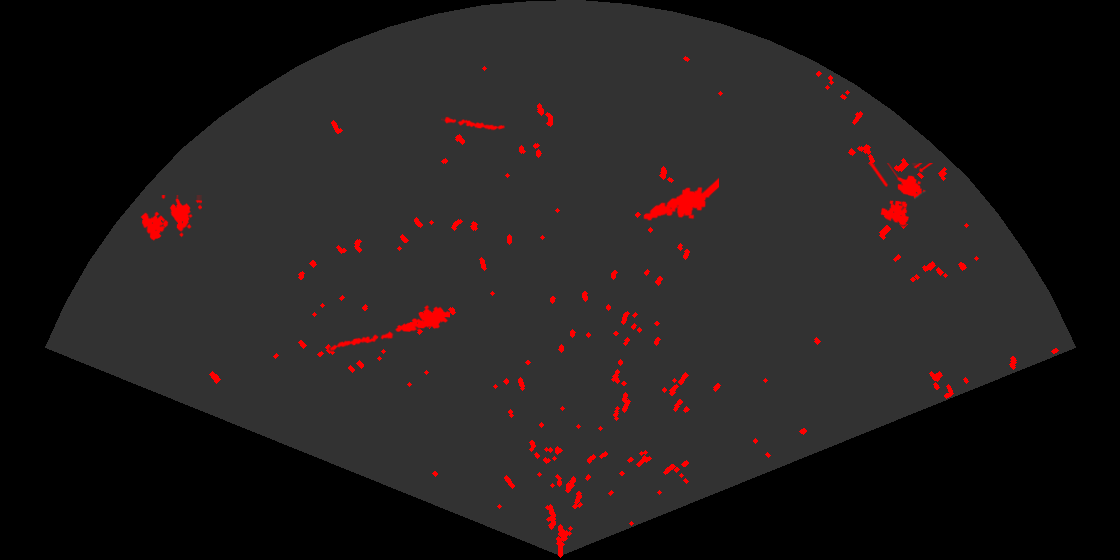cage: (867, 163, 935, 227), (139, 195, 202, 242)
chain: (328, 330, 394, 352), (441, 115, 505, 132)
frogman: (642, 176, 719, 222), (393, 303, 450, 333)
